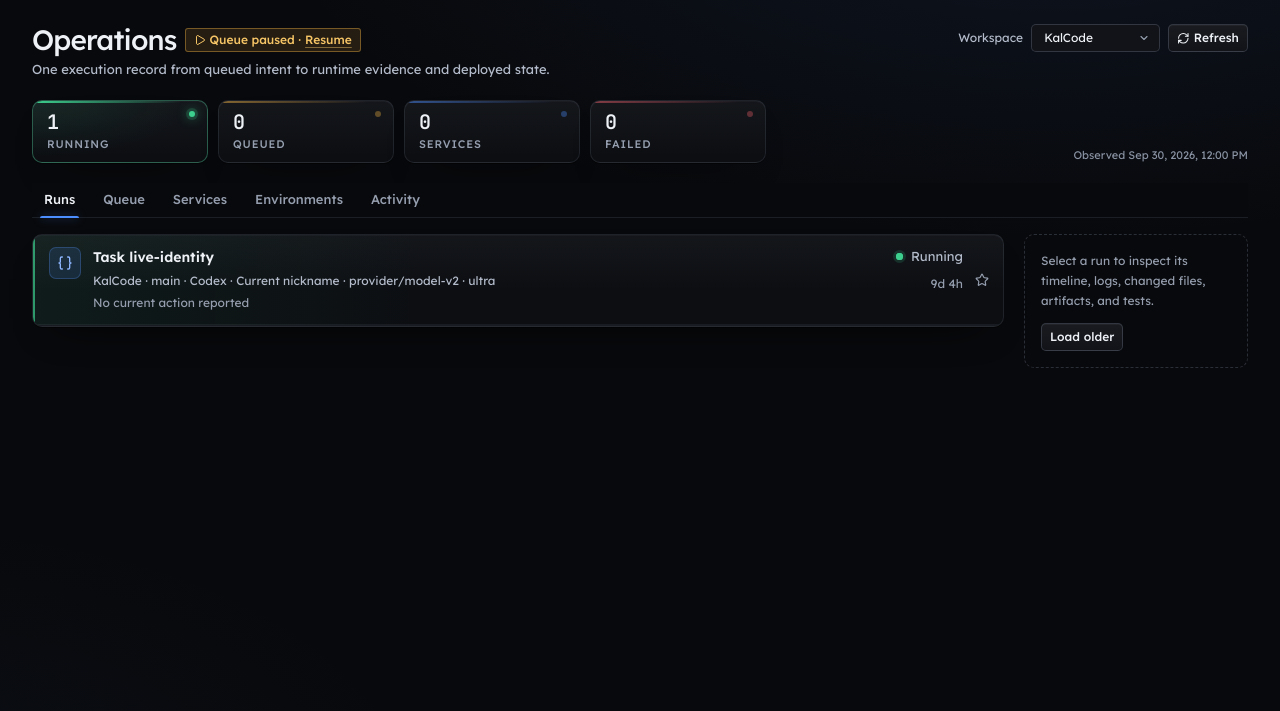
OperationsPage › shows a live run's provider-reported selector and current exact account nickname
This screenshot has width=1280, height=711.
Click the button "Task live-identity".
click(65, 263)  # box [33,235,1003,325]
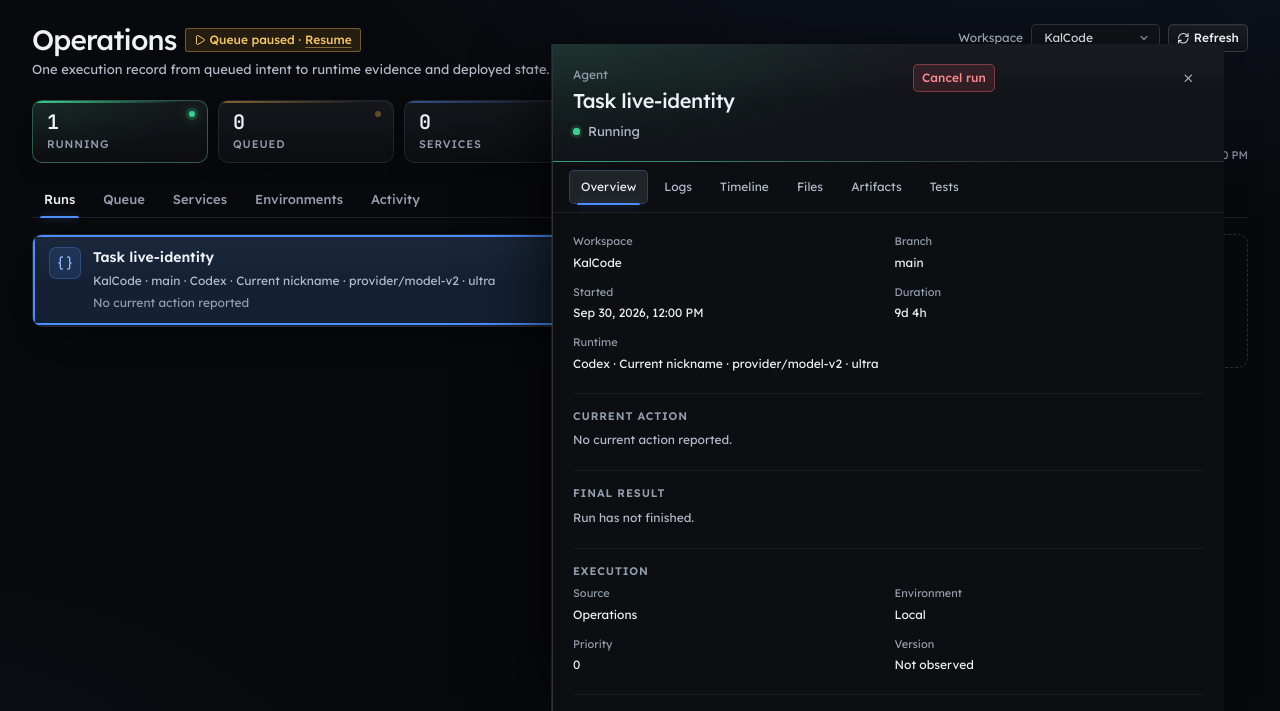
Now the text "Runtime" is shown, box [573,335,618,349]
Now the text "Codex · Current nickname · provider/model-v2 · ultra" is shown, box [573,355,882,373]
